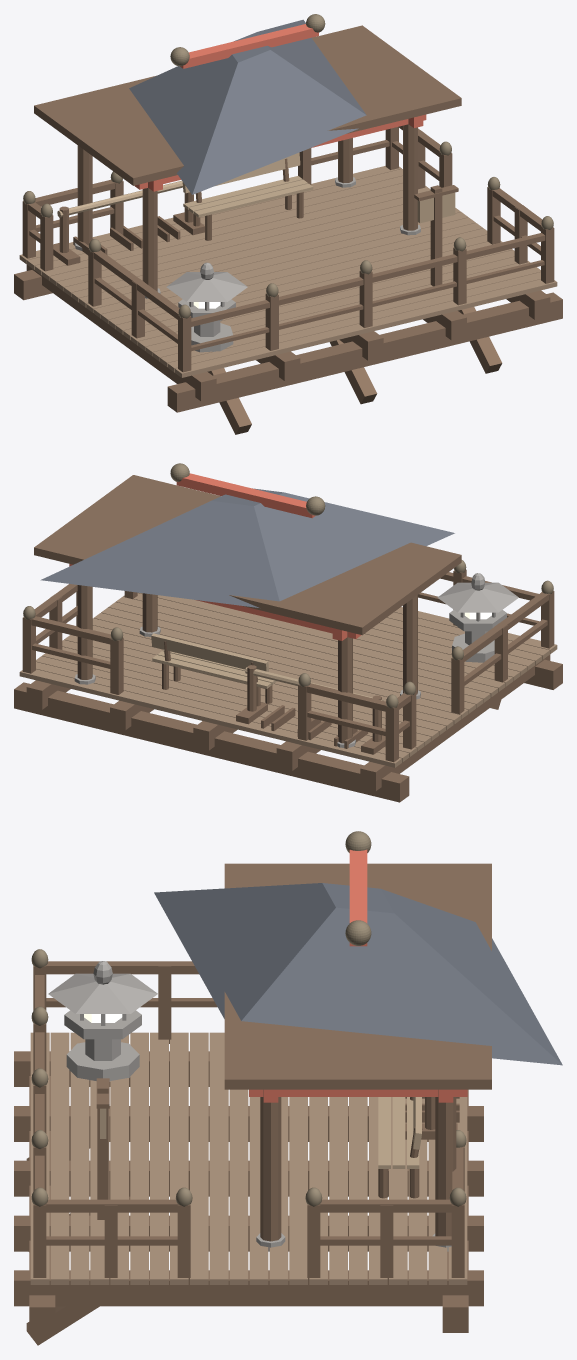
The model's file is mountain_viewpoint_deck_01.glb.
3 views of the same model, one above another, from view 1: azimuth 30°, elevation 25°; view 2: azimuth 150°, elevation 25°; view 3: azimuth 270°, elevation 25° (orthographic). The views are drawn at different scales.
Parts seen in each view (by area): view 1: Pavilion_Roof_Tile, Pavilion_Eave_Lower, Foundation_Beam_5, Deck_Plank_0, Cube.012, Deck_Plank_1, Deck_Plank_17, Deck_Plank_16, Deck_Plank_18, Deck_Plank_15, Deck_Plank_10, Deck_Plank_14 (+55 smaller); view 2: Pavilion_Roof_Tile, Pavilion_Eave_Lower, Foundation_Beam_6, Deck_Plank_21, Deck_Plank_10, Deck_Plank_9, Deck_Plank_8, Deck_Plank_11, Deck_Plank_7, Deck_Plank_6, Foundation_Beam_0, Deck_Plank_16 (+49 smaller); view 3: Pavilion_Roof_Tile, Pavilion_Eave_Lower, Foundation_Beam_4, Deck_Plank_9, Deck_Plank_8, Deck_Plank_1, Deck_Plank_6, Deck_Plank_5, Deck_Plank_10, Deck_Plank_2, Deck_Plank_7, Deck_Plank_13 (+45 smaller).
Boxes of the visible parts, x1=… form: Pavilion_Roof_Tile: x1=129, y1=19, x2=366, y2=194; Pavilion_Eave_Lower: x1=34, y1=25, x2=461, y2=185; Foundation_Beam_5: x1=167, y1=292, x2=562, y2=412; Deck_Plank_0: x1=175, y1=279, x2=557, y2=377; Cube.012: x1=191, y1=233, x2=545, y2=326; Deck_Plank_1: x1=167, y1=272, x2=540, y2=372; Deck_Plank_17: x1=49, y1=186, x2=430, y2=285; Deck_Plank_16: x1=56, y1=197, x2=402, y2=291; Deck_Plank_18: x1=42, y1=183, x2=402, y2=280; Deck_Plank_15: x1=64, y1=205, x2=402, y2=296; Deck_Plank_10: x1=101, y1=223, x2=483, y2=323; Deck_Plank_14: x1=71, y1=212, x2=402, y2=302; Pavilion_Roof_Tile: x1=40, y1=488, x2=454, y2=607; Pavilion_Eave_Lower: x1=34, y1=475, x2=461, y2=635; Foundation_Beam_6: x1=14, y1=682, x2=409, y2=802; Deck_Plank_21: x1=19, y1=669, x2=401, y2=767; Deck_Plank_10: x1=101, y1=607, x2=483, y2=708; Deck_Plank_9: x1=108, y1=602, x2=490, y2=702; Deck_Plank_8: x1=116, y1=596, x2=497, y2=697; Deck_Plank_11: x1=94, y1=613, x2=475, y2=713; Deck_Plank_7: x1=123, y1=593, x2=505, y2=691; Deck_Plank_6: x1=138, y1=592, x2=512, y2=686; Foundation_Beam_0: x1=360, y1=654, x2=550, y2=791; Deck_Plank_16: x1=62, y1=640, x2=438, y2=740; Pavilion_Roof_Tile: x1=154, y1=883, x2=562, y2=1065; Pavilion_Eave_Lower: x1=224, y1=863, x2=491, y2=1089; Foundation_Beam_4: x1=14, y1=1270, x2=483, y2=1306; Deck_Plank_9: x1=209, y1=1032, x2=228, y2=1284; Deck_Plank_8: x1=190, y1=1032, x2=208, y2=1284; Deck_Plank_1: x1=50, y1=1032, x2=69, y2=1284; Deck_Plank_6: x1=150, y1=1032, x2=168, y2=1284; Deck_Plank_5: x1=130, y1=1032, x2=148, y2=1284; Deck_Plank_10: x1=229, y1=1089, x2=248, y2=1284; Deck_Plank_2: x1=70, y1=1032, x2=89, y2=1284; Deck_Plank_7: x1=170, y1=1032, x2=188, y2=1284; Deck_Plank_13: x1=289, y1=1097, x2=307, y2=1284.
Bounding box in the file's own units: 7.4 × 5.21 × 6.77.
